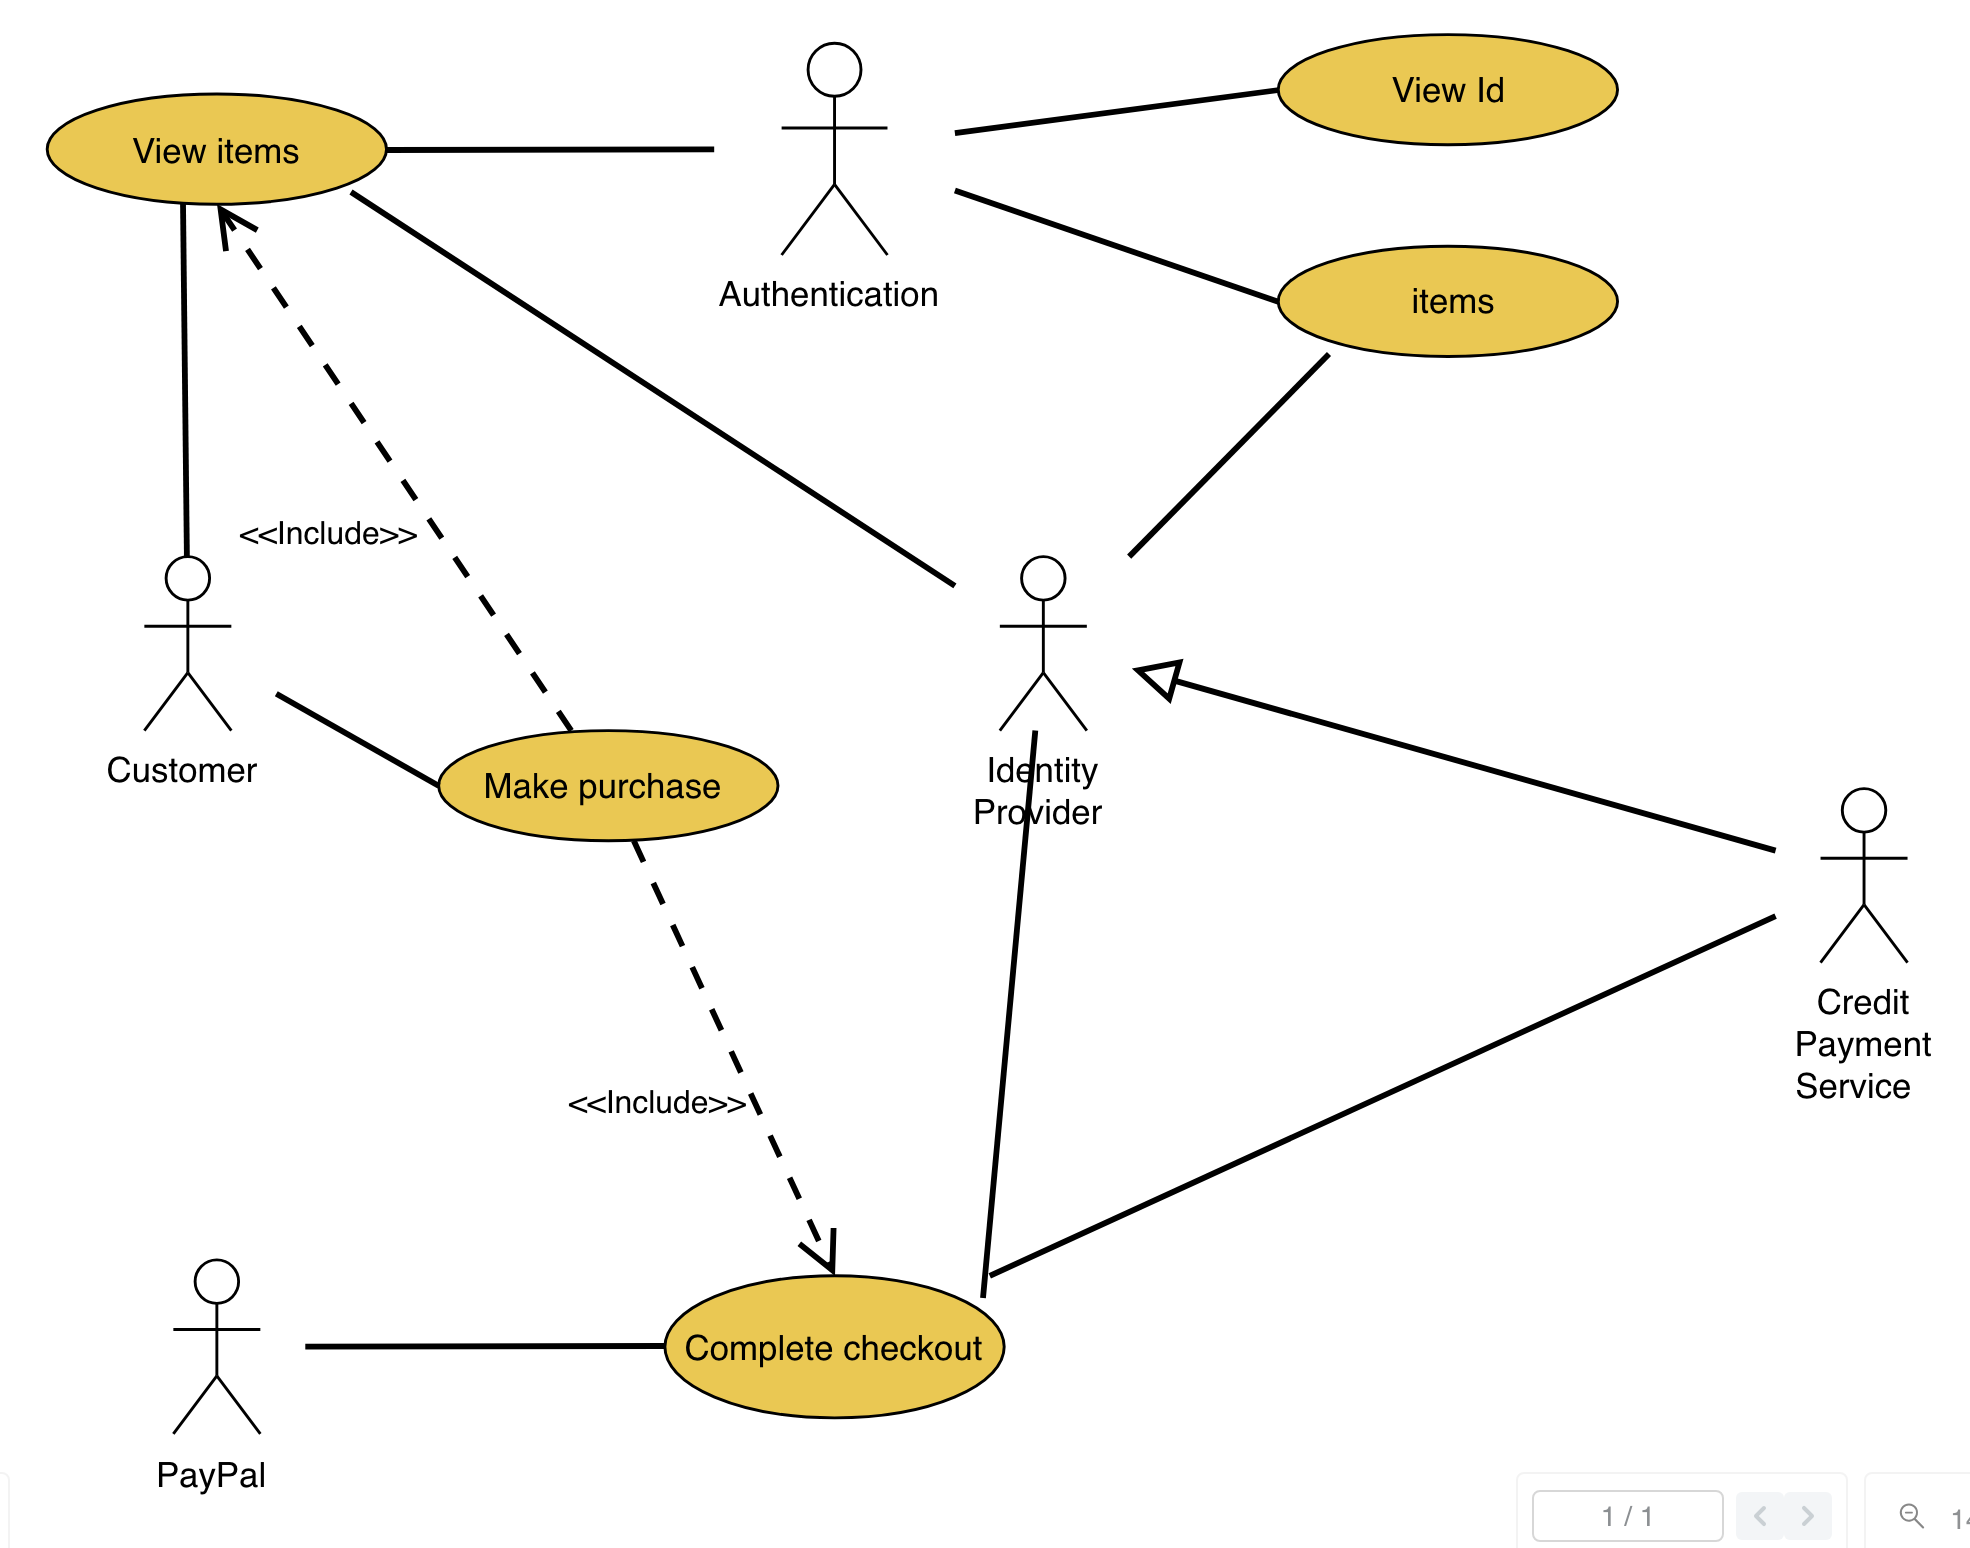actor: (771, 38, 900, 261), (128, 557, 238, 740), (990, 557, 1100, 734), (169, 1257, 265, 1439), (1823, 779, 1912, 966)
association: (996, 912, 1777, 1276), (352, 189, 959, 590), (208, 200, 585, 732), (1126, 657, 1780, 854), (628, 844, 852, 1278), (1126, 352, 1335, 560), (951, 186, 1276, 305), (979, 724, 1039, 1299), (310, 1303, 660, 1386), (154, 205, 214, 553), (267, 681, 440, 792), (390, 117, 715, 171), (951, 85, 1279, 138)
text: (1786, 980, 1935, 1102)
use_case: (662, 1273, 1007, 1422), (38, 90, 392, 209), (1274, 27, 1621, 147), (437, 726, 779, 846), (1274, 241, 1621, 357)
